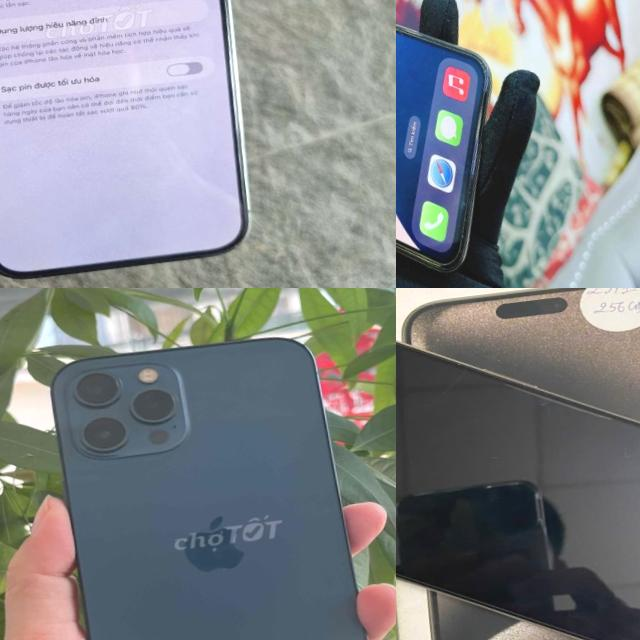physical_damage: (396, 366, 490, 428), (522, 380, 574, 424), (610, 439, 640, 464)
scratch: (437, 22, 496, 98), (396, 0, 428, 50), (452, 196, 478, 250)
